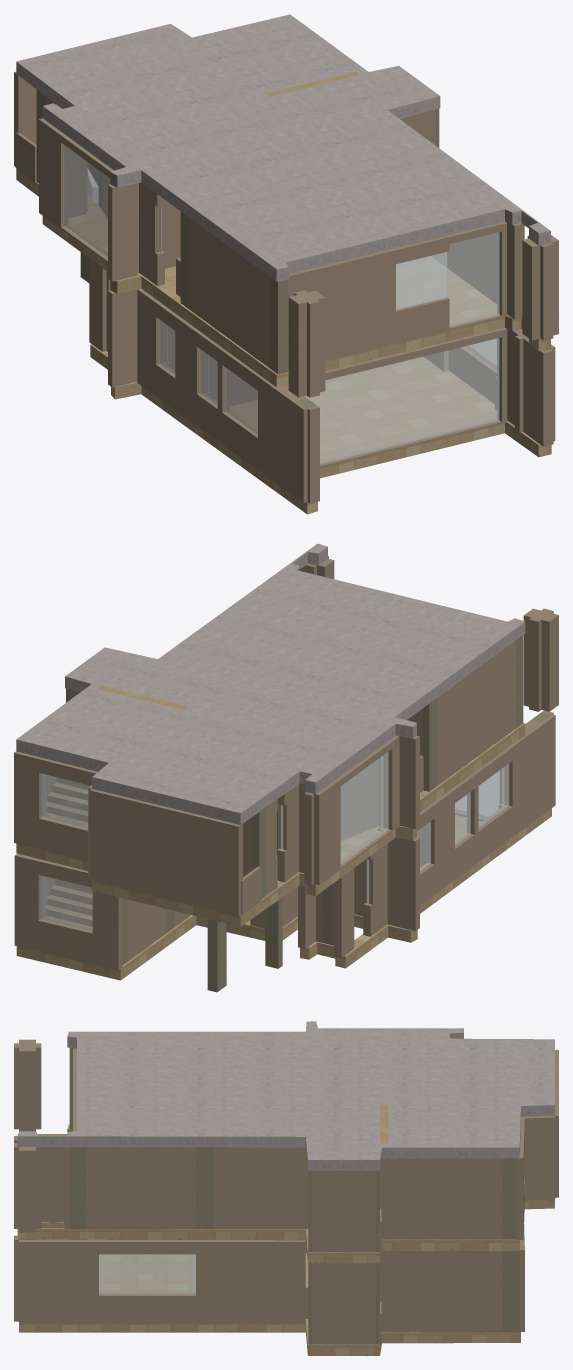
File: villa-a1.glb
The picture shows the model from 3 angles, top to bottom: view 1: azimuth 30°, elevation 25°; view 2: azimuth 150°, elevation 25°; view 3: azimuth 270°, elevation 25°; orthographic projection. The views are drawn at different scales.
Parts seen in each view (by area): view 1: floor_first, floor_stilt; view 2: floor_first, floor_stilt; view 3: floor_first, floor_stilt.
Boxes of the visible parts, <box> form: floor_first: <box>14,14,558,397</box>; floor_stilt: <box>80,252,555,514</box>; floor_first: <box>14,543,558,926</box>; floor_stilt: <box>14,710,555,992</box>; floor_first: <box>14,1021,558,1263</box>; floor_stilt: <box>14,1134,524,1355</box>.
Size of what is drawn, in the model's own units: 9.72 by 6.35 by 16.
9 materials, 7 textured.
